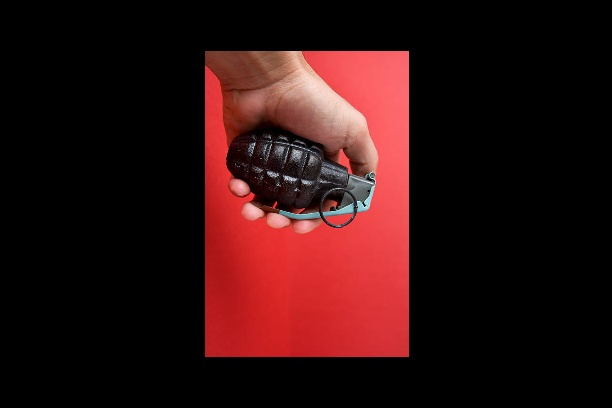e1: (226, 121, 383, 227)
